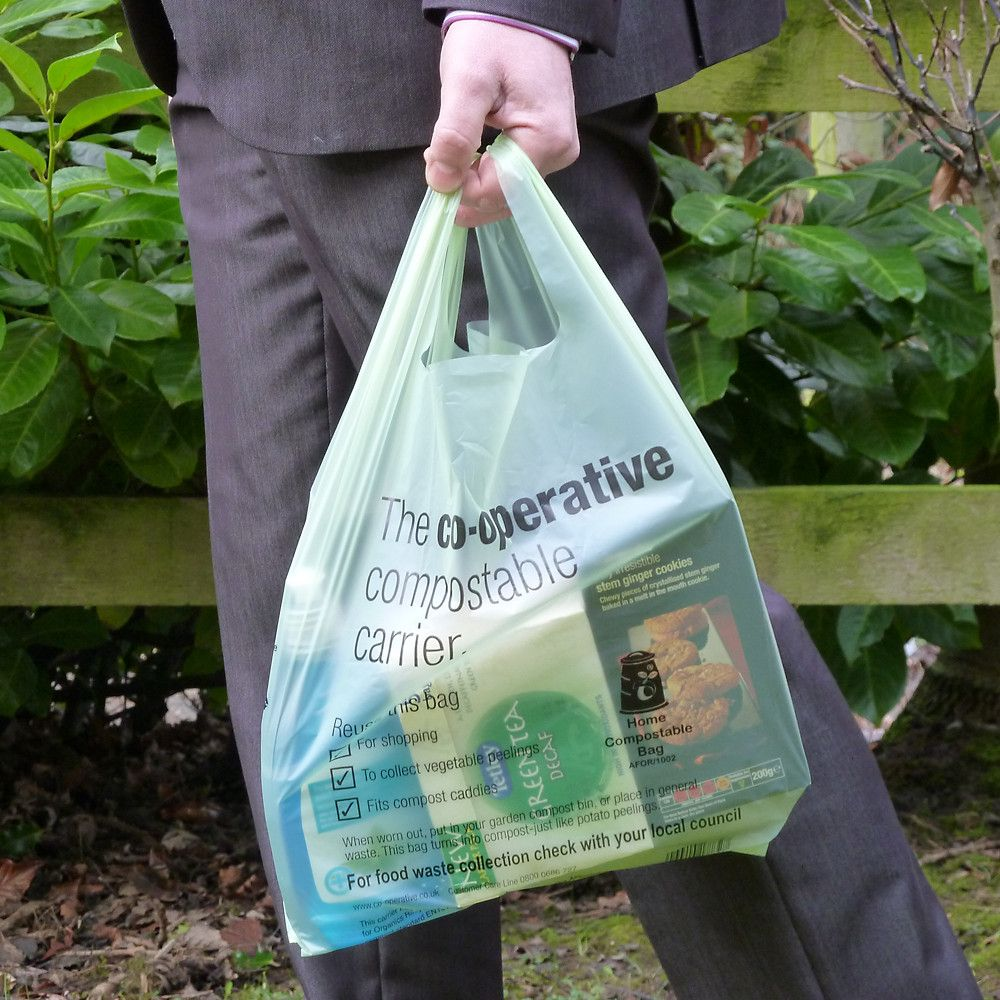plastic_bagwdw: (169, 113, 872, 969)
